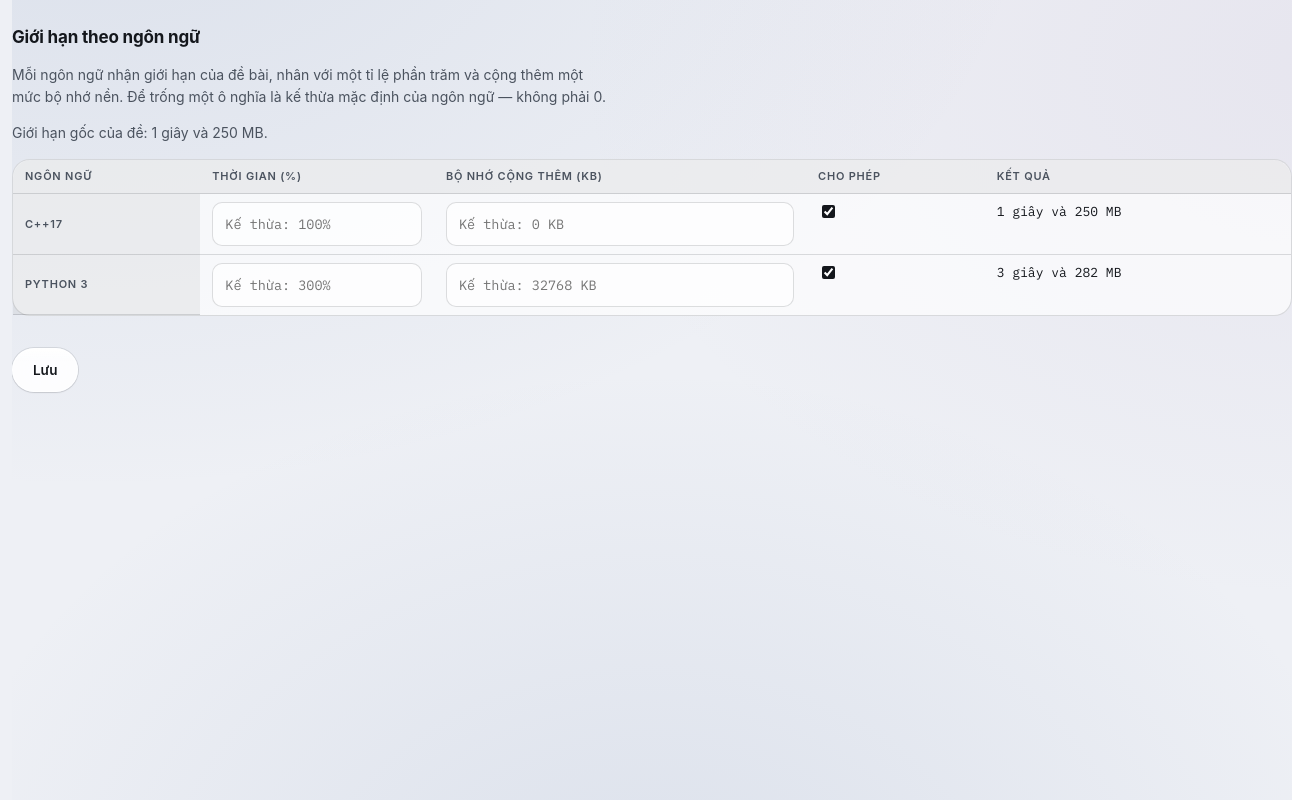
Test: the language-limits form (D159) › refuses a multiplier of 0 before it reaches the wire, and says why in the reader’s language
Type "0" into the number field named "Tỉ lệ thời gian cho Python 3".
click(317, 286); type("0")  # box [212, 264, 422, 308]
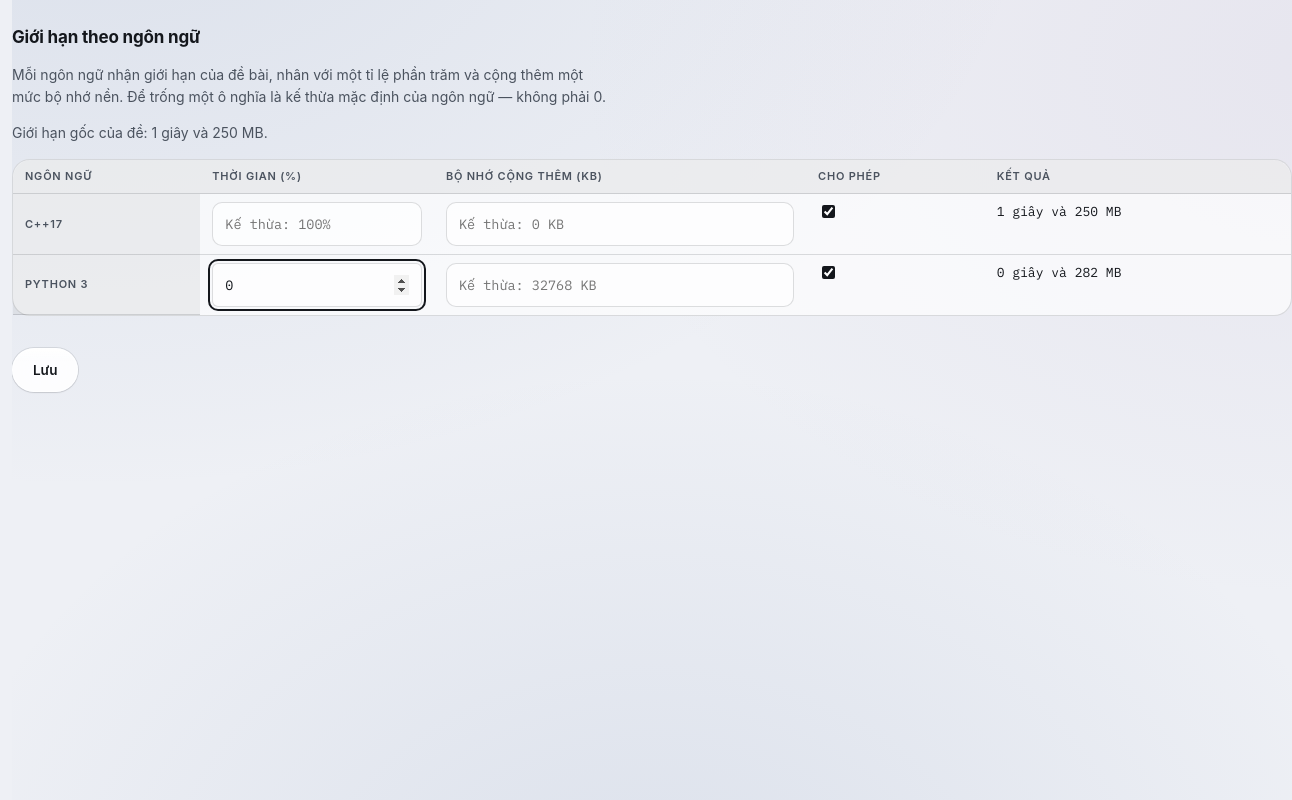
Click the button "Lưu".
click(45, 370)  # box [12, 348, 78, 392]
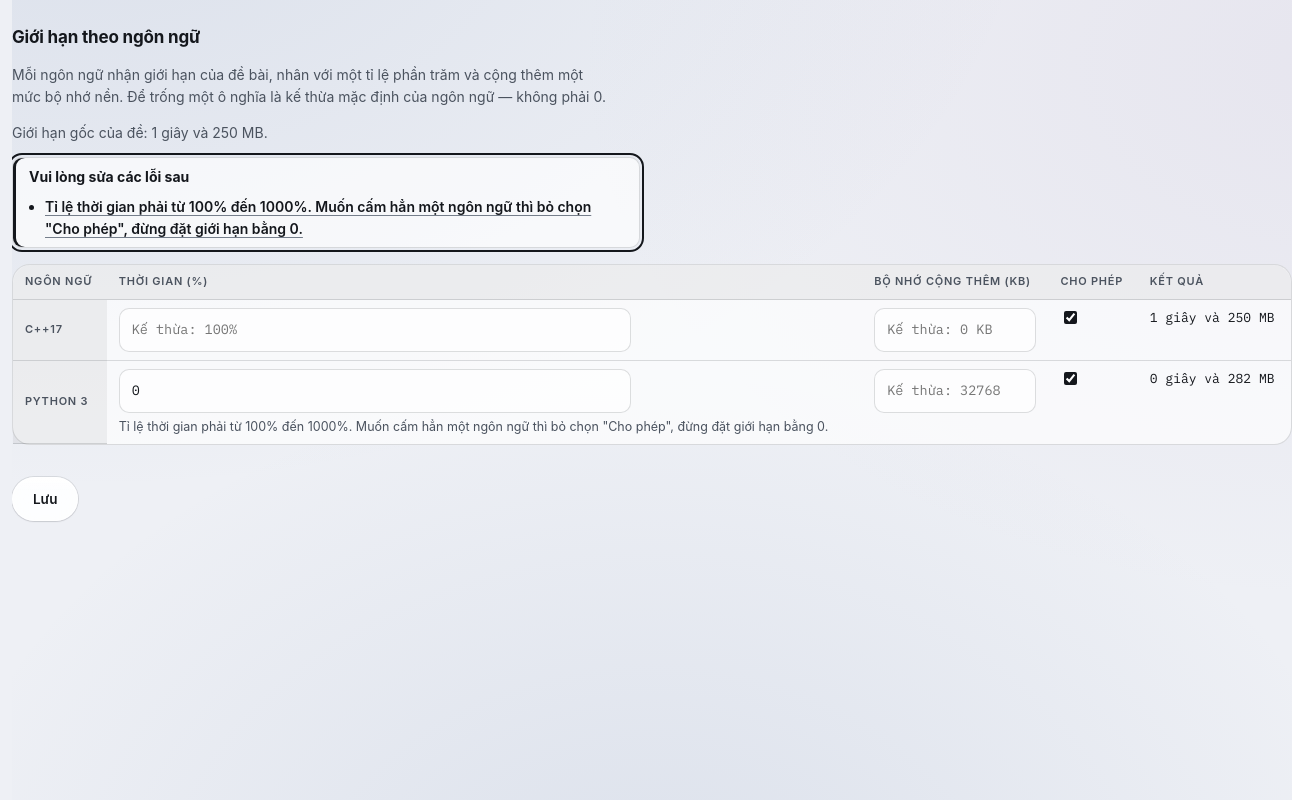
expect the message shows "100%": met, box [45, 198, 591, 237]
expect the message shows "Cho phép": met, box [45, 198, 591, 237]
